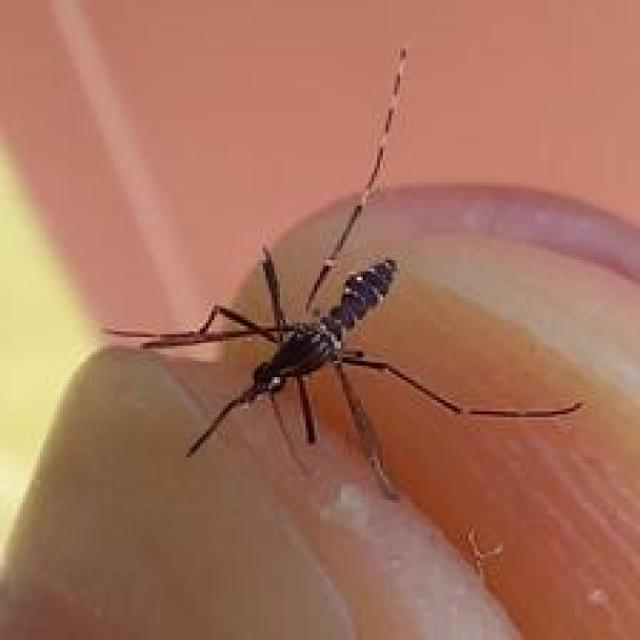Aedes albopictus: (100, 44, 586, 502)
